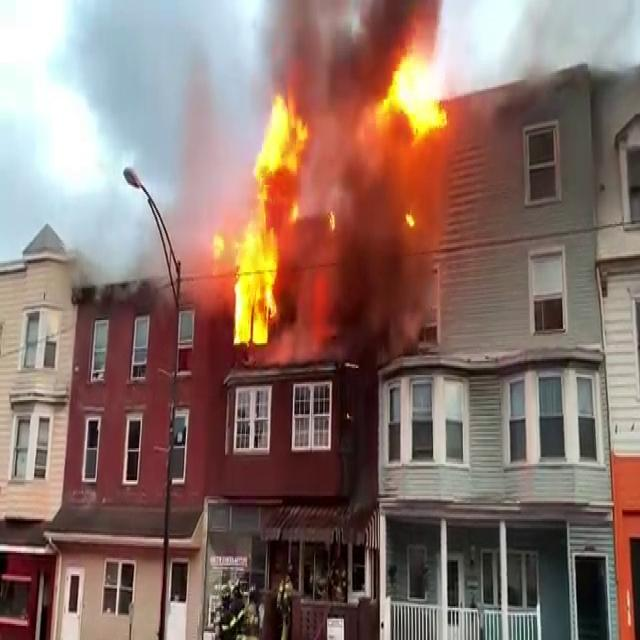Fire: (213, 85, 317, 352), (378, 24, 451, 145)
